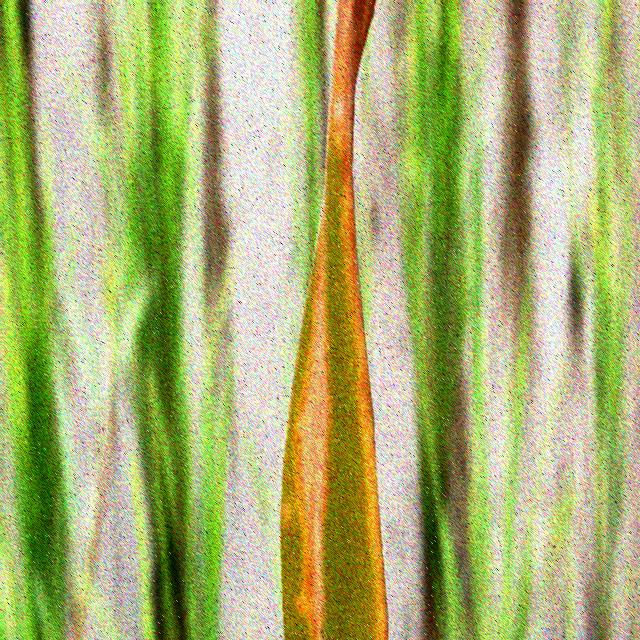BLS: (327, 0, 388, 640), (294, 194, 333, 640)
